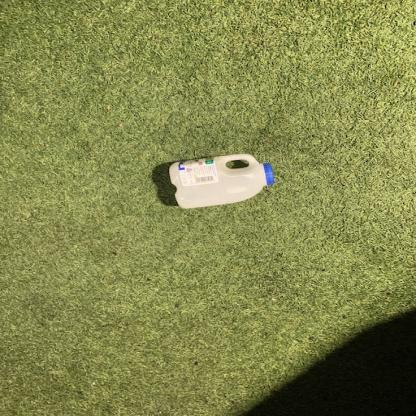trash: (166, 153, 276, 212)
